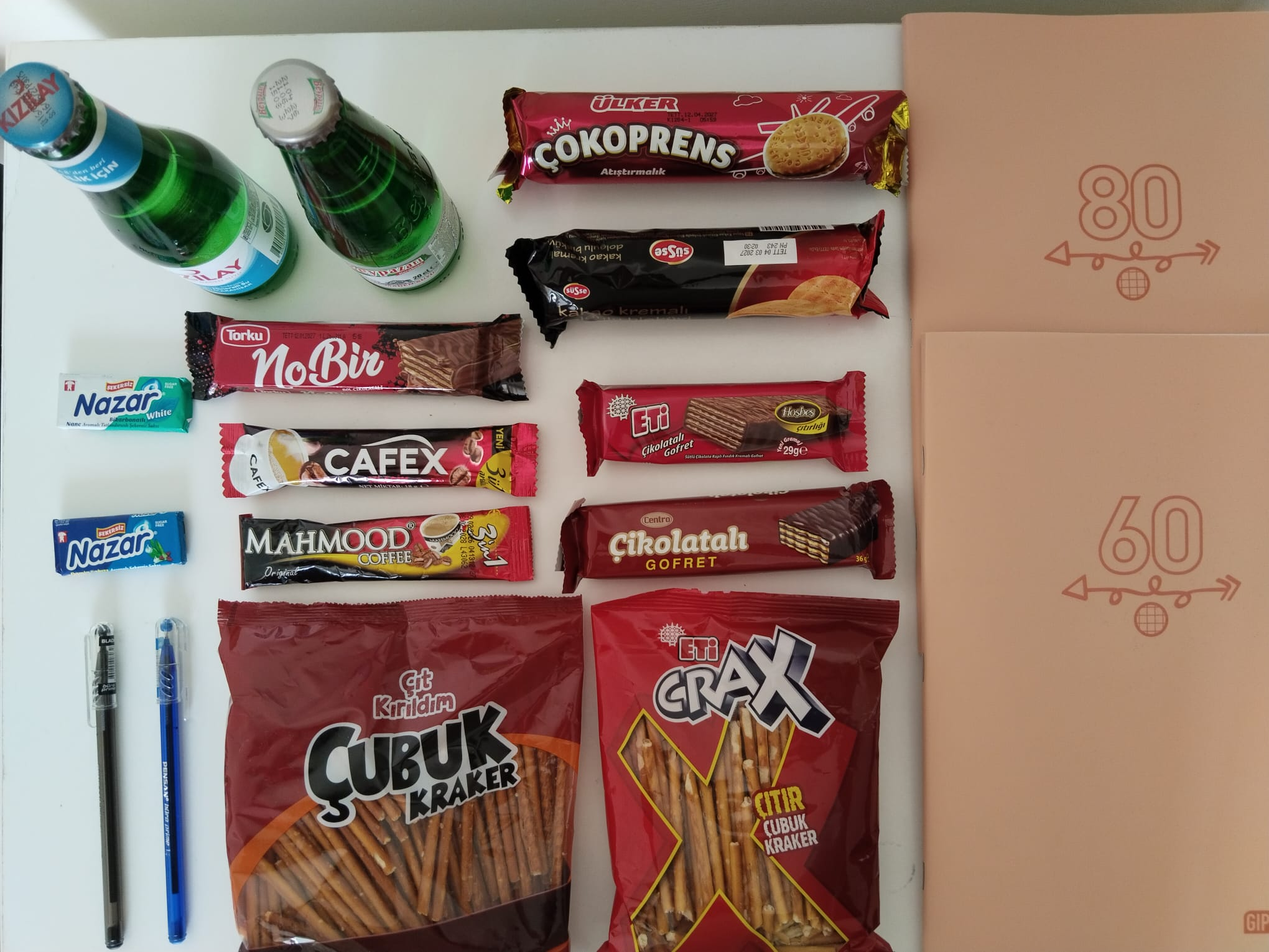60_sayfa_gipta_defter: (919, 331, 1269, 952)
80_sayfa_gipta_defter: (903, 14, 1269, 331)
beypazari_maden_suyu: (249, 56, 466, 293)
centro_gofret: (556, 481, 896, 594)
citkirildim_cubuk_kraker: (223, 595, 579, 951)
eti_crax_cubuk_kraker: (587, 591, 897, 952)
eti_hosbes_gofret: (577, 372, 866, 476)
kizilay_maden_suyu: (0, 65, 289, 303)
mahmood_kahve: (239, 504, 534, 590)
nazar_damla_sakizli_sakiz: (54, 511, 185, 571)
nazar_naneli_sakiz: (54, 370, 190, 429)
pensan_mavi_tukenmez_kalem: (151, 616, 187, 938)
pensan_siyah_tukenmez_kalem: (85, 622, 124, 951)
susse_biskuvi: (505, 213, 889, 342)
torku_nobir_gofret: (190, 312, 523, 399), (220, 423, 536, 497)
ulker_cokoprens_biskuvi: (500, 90, 907, 198)
